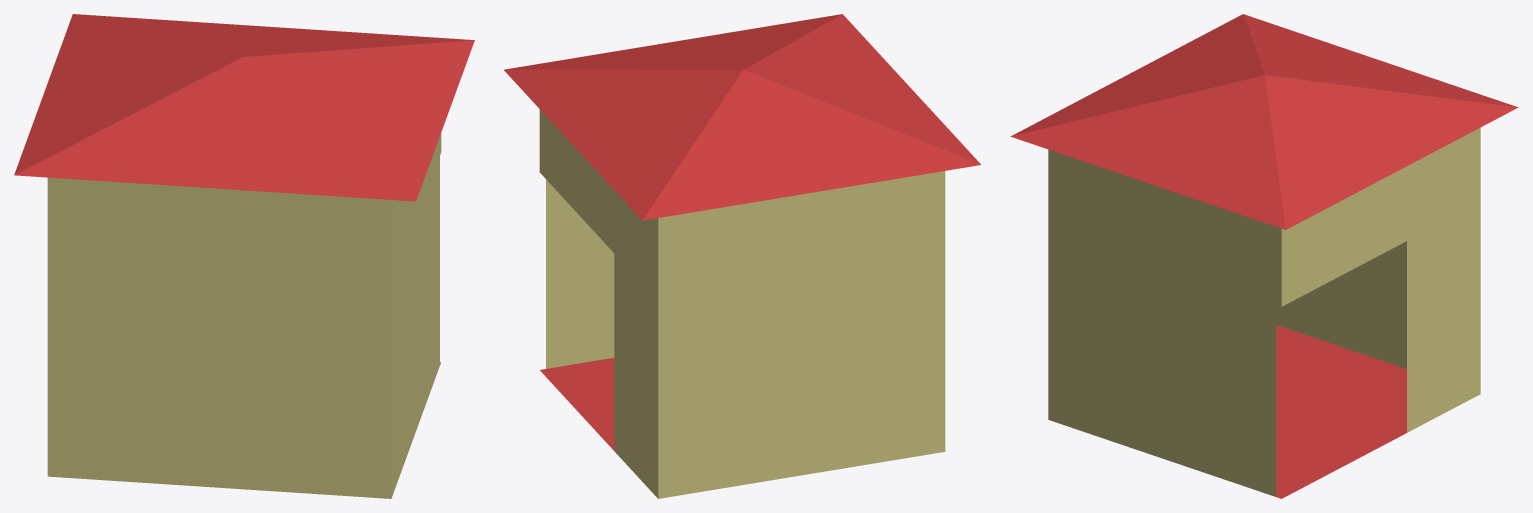
3 views of the same model, side by side, from view 1: azimuth 30°, elevation 25°; view 2: azimuth 150°, elevation 25°; view 3: azimuth 270°, elevation 25° (orthographic). The views are drawn at different scales.
Size of the model in its own units: 14.17 by 14.09 by 10.14.
